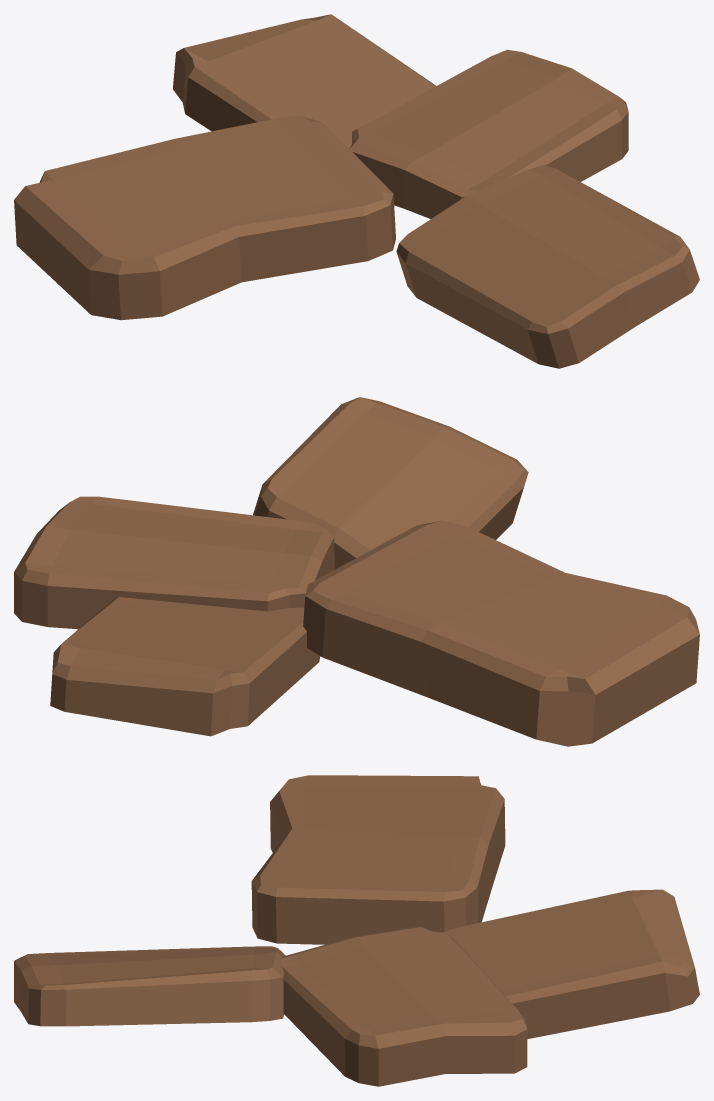
File: piso 2.fbx
3 renders of one model, top to bottom at view 1: azimuth 30°, elevation 25°; view 2: azimuth 150°, elevation 25°; view 3: azimuth 270°, elevation 25°, orthographic. The views are drawn at different scales.
Parts seen in each view (by area): view 1: Floor Filling B; view 2: Floor Filling B; view 3: Floor Filling B.
Boxes of the visible parts, box(x1,y1,x2,y2) form: Floor Filling B: box(14, 14, 699, 368); Floor Filling B: box(14, 397, 699, 746); Floor Filling B: box(14, 775, 699, 1086).
Bounding box in the file's own units: 207 × 36.35 × 222.
